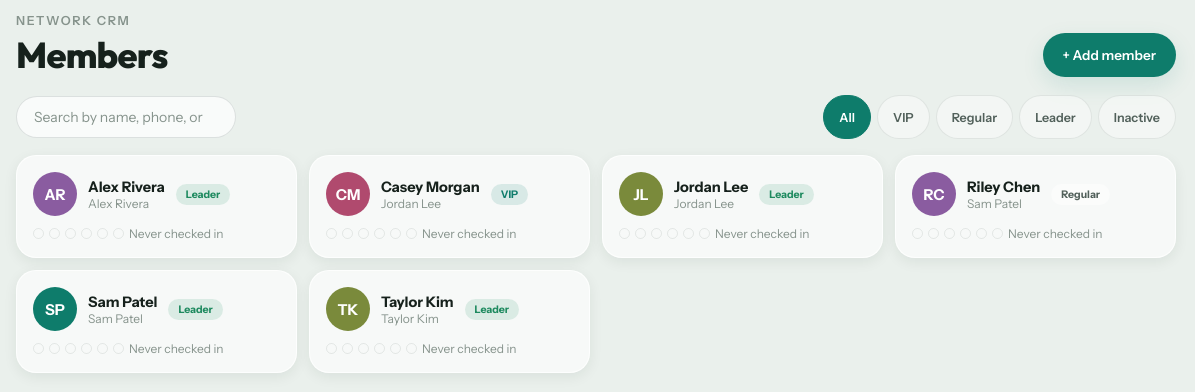
Test: MembersPage › status filter chips narrow the grid
Expected: the text "Casey Morgan" is shown, [381,178,480,196]
What coordinates should you click on to do the following:
click the button "VIP"
I would click on:
 (903, 117)
Its box is [877,95,930,139].
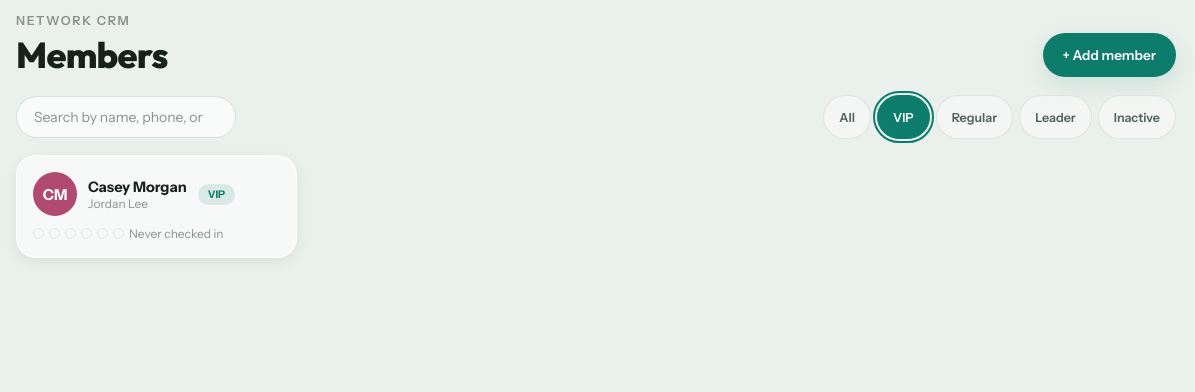
Expected: the text "Casey Morgan" is shown, [88,178,187,196]
Expected: the button "Riley Chen" is gone
